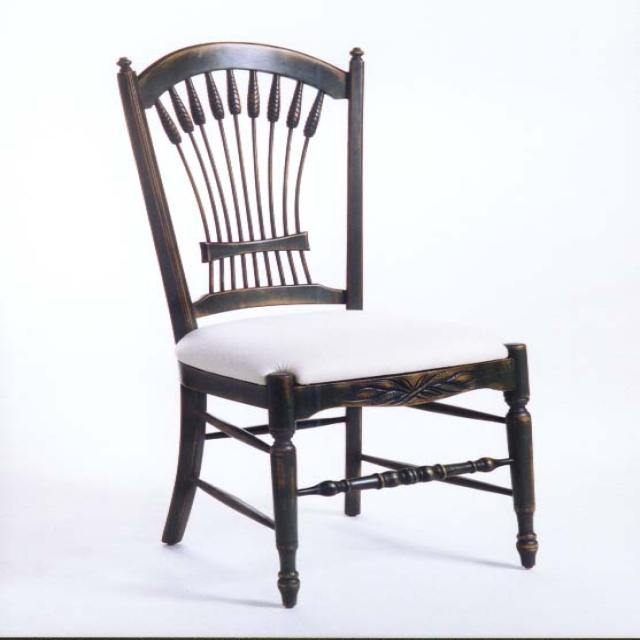chair: (114, 40, 539, 609)
